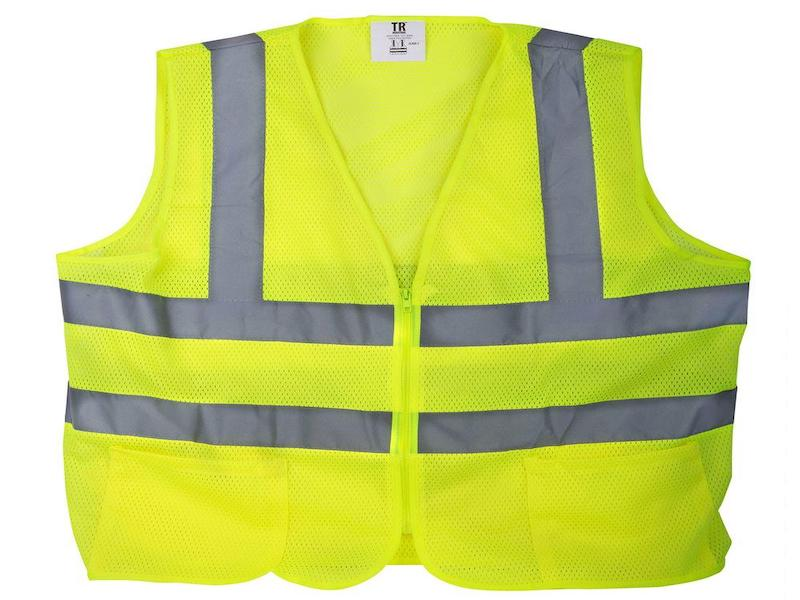vest: (60, 23, 749, 588)
